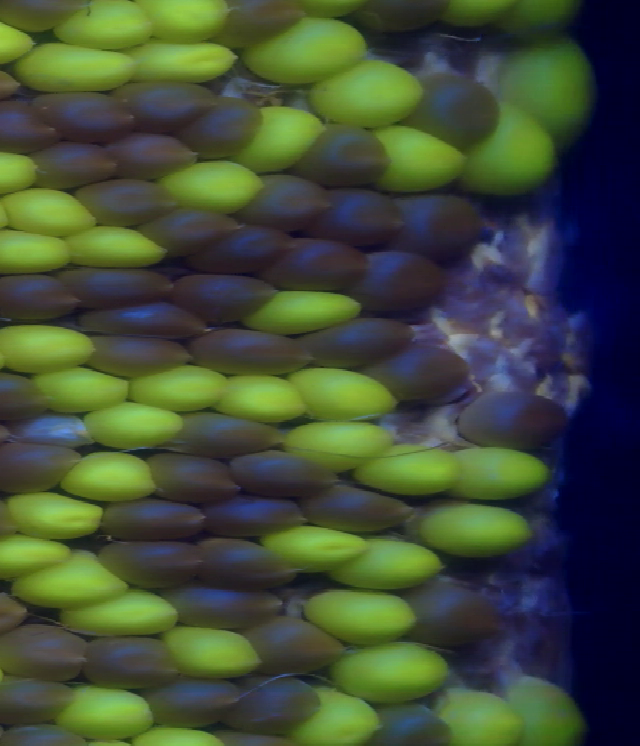fluorescent: (503, 37, 605, 140), (245, 20, 373, 87), (307, 55, 427, 126), (328, 526, 454, 591), (361, 121, 469, 192), (285, 418, 413, 477), (8, 549, 130, 610), (10, 36, 135, 93), (338, 641, 455, 700), (353, 442, 467, 499), (473, 111, 560, 185), (59, 583, 182, 635), (421, 499, 539, 553), (300, 679, 394, 746), (257, 520, 367, 576), (244, 286, 367, 335), (307, 588, 419, 641), (289, 361, 397, 415), (161, 623, 269, 677), (506, 677, 589, 746), (84, 397, 193, 449), (440, 685, 531, 746), (61, 683, 156, 741), (455, 443, 552, 499), (47, 3, 165, 49), (161, 156, 267, 207), (239, 106, 321, 171), (55, 447, 159, 498), (53, 223, 165, 269), (0, 186, 97, 235), (126, 363, 225, 411), (0, 323, 97, 371), (127, 43, 237, 85), (135, 1, 232, 47), (9, 493, 106, 538), (217, 371, 305, 420), (35, 367, 133, 408), (0, 527, 73, 575), (496, 1, 583, 40), (0, 233, 75, 274), (444, 1, 519, 33), (135, 725, 235, 746), (0, 15, 35, 63), (0, 151, 35, 193), (304, 1, 367, 21)
nonfluorescent: (232, 607, 348, 667), (414, 74, 503, 152), (398, 578, 508, 641), (462, 387, 571, 449), (305, 477, 417, 537), (168, 582, 292, 633), (228, 443, 340, 497), (85, 632, 182, 694), (358, 243, 438, 318), (302, 313, 407, 369), (195, 325, 308, 377), (195, 221, 292, 281), (363, 343, 469, 397), (0, 618, 89, 682), (200, 531, 301, 587), (102, 535, 208, 588), (230, 674, 325, 733), (242, 170, 332, 232), (185, 94, 270, 159), (277, 231, 368, 291), (144, 446, 245, 500), (173, 270, 275, 323), (0, 432, 86, 494), (78, 300, 208, 341), (91, 330, 202, 378), (29, 91, 135, 141), (398, 196, 479, 261), (139, 207, 238, 259), (58, 264, 173, 307), (175, 409, 284, 453), (99, 497, 208, 541), (300, 121, 381, 178), (203, 493, 308, 536), (328, 190, 407, 247), (29, 140, 117, 191), (148, 681, 242, 728), (213, 1, 303, 49), (119, 82, 217, 126), (106, 131, 203, 174), (78, 177, 173, 220), (0, 671, 72, 724), (0, 273, 82, 319), (375, 706, 455, 746), (354, 1, 448, 34), (0, 1, 94, 34), (0, 99, 62, 147), (0, 374, 46, 421), (2, 722, 84, 746), (0, 581, 32, 640), (0, 64, 32, 107)
